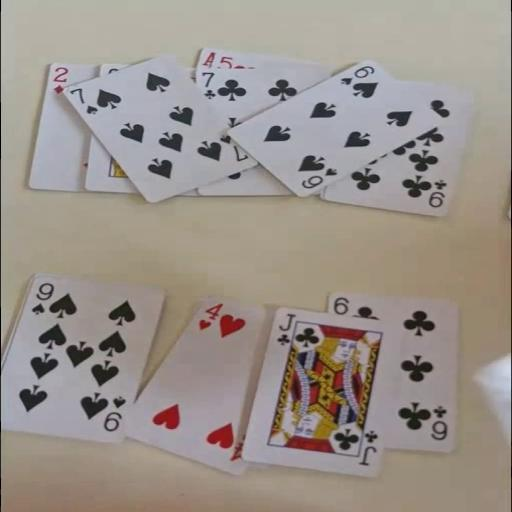2: (50, 66, 70, 93)
4: (194, 300, 224, 331)
6: (298, 166, 340, 190), (338, 63, 376, 86), (428, 403, 449, 441)
7: (217, 132, 250, 162), (67, 86, 100, 116)
9: (101, 394, 129, 433), (28, 280, 56, 316), (426, 177, 448, 209)
J: (356, 428, 380, 467), (273, 311, 297, 347)
